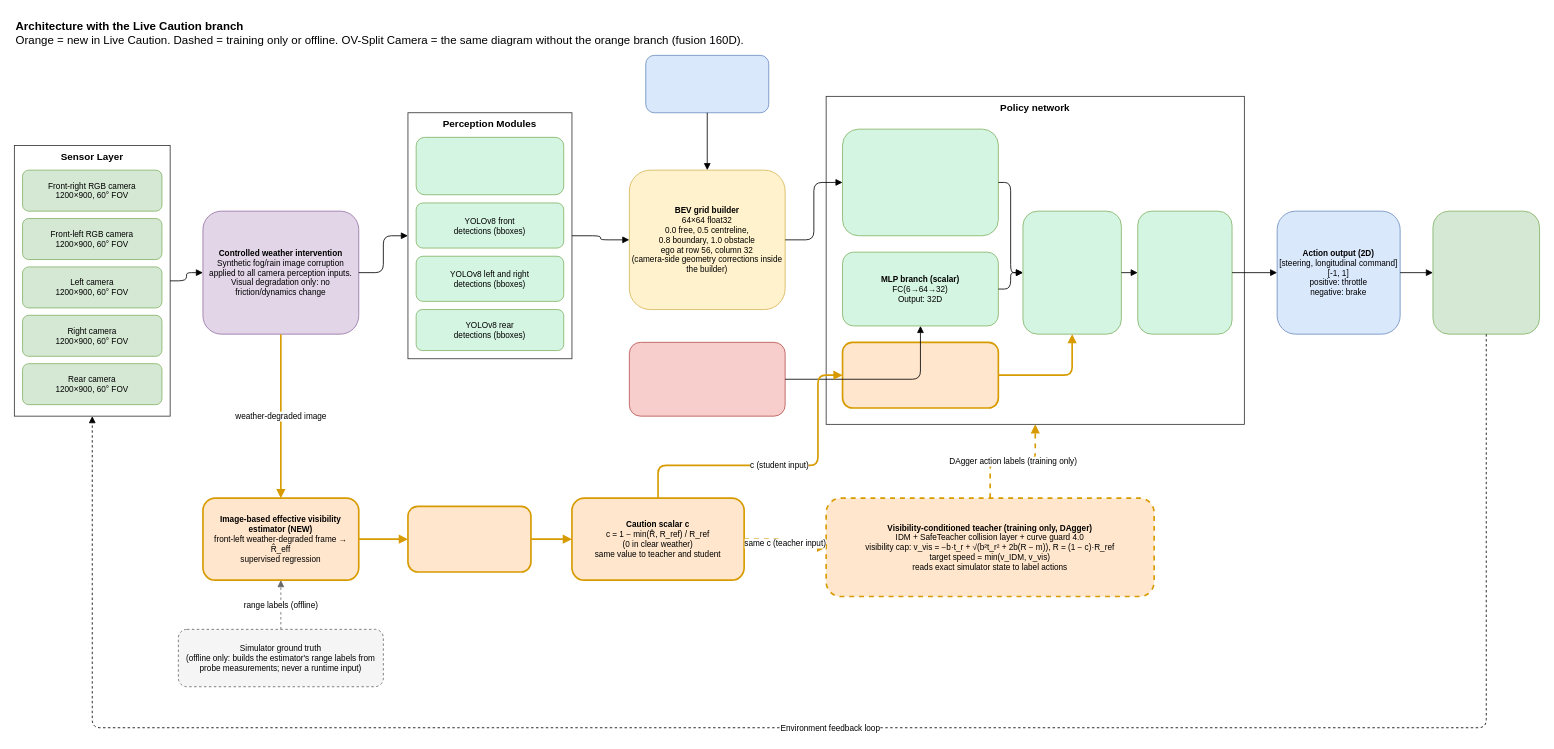
This 1554x749 diagram has some shape labels left out. Here are the shapes that lost their labels. From the top down, the centre of each, then its label:
the point at 707,84: HD map Route waypoints Lane boundaries
the point at 489,166: Stereo SGM Z = f·B / d_px depth map H×W
the point at 920,182: CNN branch (BEV) Conv(5×5) → Conv(3×3) → Conv(3×3) → pooling → FC → 128D
the point at 1071,272: Fusion concatenation [128, 32, 16] = 176D (OV-Split: [128, 32] = 160D)
the point at 1184,272: Action head FC(176→128→2) ReLU + Tanh
the point at 1486,272: MetaDrive environment Next state s_{t+1}
the point at 707,379: Scalar state (6D) [x, y, d, θ_err, κ_ahead, d_goal] Source: HD map + GPS + IMU
the point at 920,374: Caution branch (NEW) FC(1→16) + ReLU Output: 16D
the point at 469,538: Effective range R̂_eff (metres)
